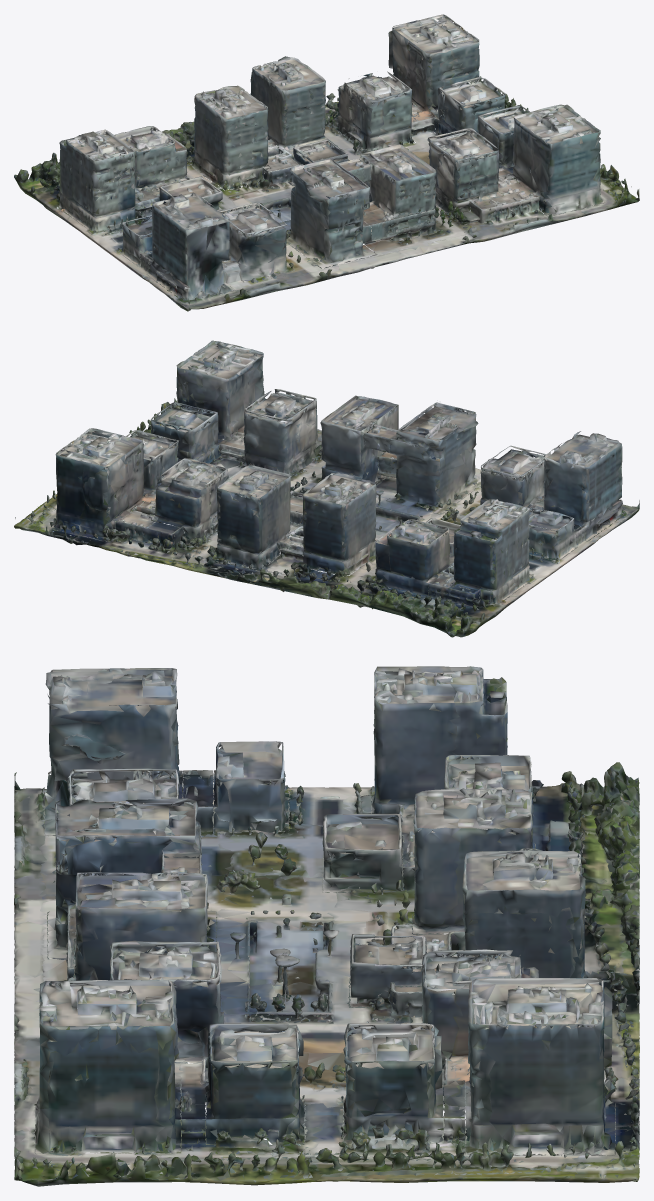
Rendered from yungu_visual_demo_v2.glb.
3 renders of one model, top to bottom at view 1: azimuth 30°, elevation 25°; view 2: azimuth 150°, elevation 25°; view 3: azimuth 270°, elevation 25°, orthographic. The views are drawn at different scales.
Visible parts, largest first — view 1: SM_Yungu_Base, SM_Yungu_Highrise_01, SM_Yungu_Highrise_09, SM_Yungu_Highrise_13, SM_Yungu_Highrise_15, SM_Yungu_Highrise_10, SM_Yungu_Highrise_04, SM_Yungu_Highrise_08, SM_Yungu_Highrise_06, SM_Yungu_Highrise_05, SM_Yungu_Highrise_07, SM_Yungu_Highrise_11 (+6 smaller); view 2: SM_Yungu_Base, SM_Yungu_Highrise_04, SM_Yungu_Highrise_09, SM_Yungu_Highrise_08, SM_Yungu_Highrise_15, SM_Yungu_Highrise_10, SM_Yungu_Highrise_13, SM_Yungu_Highrise_01, SM_Yungu_Highrise_05, SM_Yungu_Highrise_07, SM_Yungu_Highrise_12, SM_Yungu_Highrise_06 (+5 smaller); view 3: SM_Yungu_Base, SM_Yungu_Highrise_04, SM_Yungu_Highrise_01, SM_Yungu_Highrise_15, SM_Yungu_Highrise_13, SM_Yungu_Highrise_08, SM_Yungu_Highrise_09, SM_Yungu_Highrise_10, SM_Yungu_Highrise_03, SM_Yungu_Highrise_02, SM_Yungu_Highrise_07, SM_Yungu_Highrise_05 (+6 smaller).
Boxes of the visible parts, <box> form: SM_Yungu_Base: <box>14,76,639,311</box>; SM_Yungu_Highrise_01: <box>508,104,604,216</box>; SM_Yungu_Highrise_09: <box>286,158,376,268</box>; SM_Yungu_Highrise_13: <box>147,192,234,302</box>; SM_Yungu_Highrise_15: <box>56,129,135,232</box>; SM_Yungu_Highrise_10: <box>190,85,270,190</box>; SM_Yungu_Highrise_04: <box>388,14,479,114</box>; SM_Yungu_Highrise_08: <box>250,56,327,153</box>; SM_Yungu_Highrise_06: <box>335,71,414,151</box>; SM_Yungu_Highrise_05: <box>427,128,503,218</box>; SM_Yungu_Highrise_07: <box>359,144,438,242</box>; SM_Yungu_Highrise_11: <box>219,202,292,282</box>; SM_Yungu_Base: <box>14,398,639,637</box>; SM_Yungu_Highrise_04: <box>47,428,147,541</box>; SM_Yungu_Highrise_09: <box>386,402,480,514</box>; SM_Yungu_Highrise_08: <box>213,465,294,570</box>; SM_Yungu_Highrise_15: <box>450,499,532,606</box>; SM_Yungu_Highrise_10: <box>302,472,376,576</box>; SM_Yungu_Highrise_13: <box>543,431,625,540</box>; SM_Yungu_Highrise_01: <box>176,340,264,441</box>; SM_Yungu_Highrise_05: <box>239,389,320,475</box>; SM_Yungu_Highrise_07: <box>318,395,398,483</box>; SM_Yungu_Highrise_12: <box>375,519,451,596</box>; SM_Yungu_Highrise_06: <box>152,457,228,538</box>; SM_Yungu_Base: <box>14,755,639,1186</box>; SM_Yungu_Highrise_04: <box>464,978,615,1155</box>; SM_Yungu_Highrise_01: <box>34,980,181,1153</box>; SM_Yungu_Highrise_15: <box>371,666,507,818</box>; SM_Yungu_Highrise_13: <box>44,668,183,835</box>; SM_Yungu_Highrise_08: <box>461,848,587,977</box>; SM_Yungu_Highrise_09: <box>47,794,216,958</box>; SM_Yungu_Highrise_10: <box>412,788,532,934</box>; SM_Yungu_Highrise_03: <box>343,1023,443,1144</box>; SM_Yungu_Highrise_02: <box>205,1023,304,1144</box>; SM_Yungu_Highrise_07: <box>74,872,208,980</box>; SM_Yungu_Highrise_05: <box>110,940,223,1067</box>.
Size of the model in its own units: 331 by 64.36 by 224.
58 materials, 58 textured.
